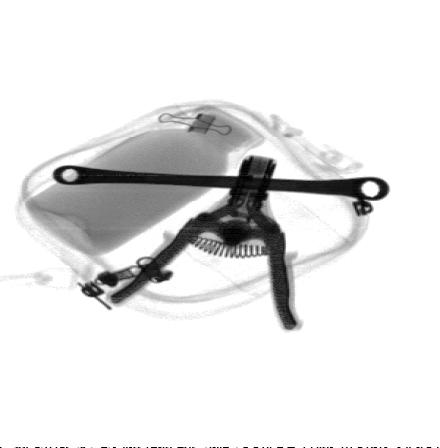Pliers: (106, 154, 297, 329)
Wrench: (51, 166, 394, 202)
